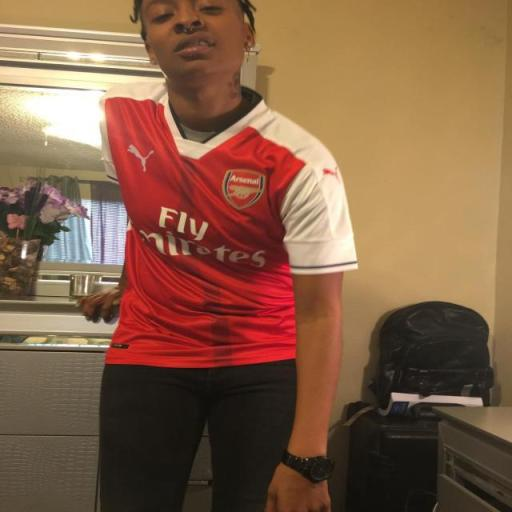Emirates: (122, 201, 271, 273)
